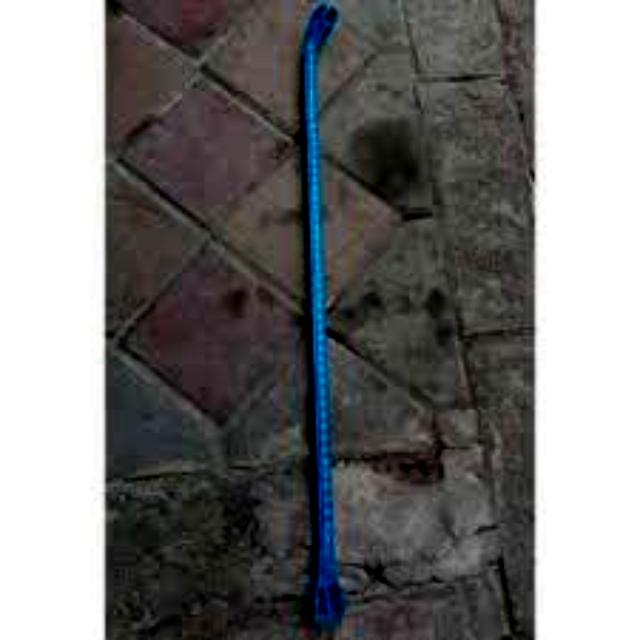crow bar: (284, 5, 362, 640)
